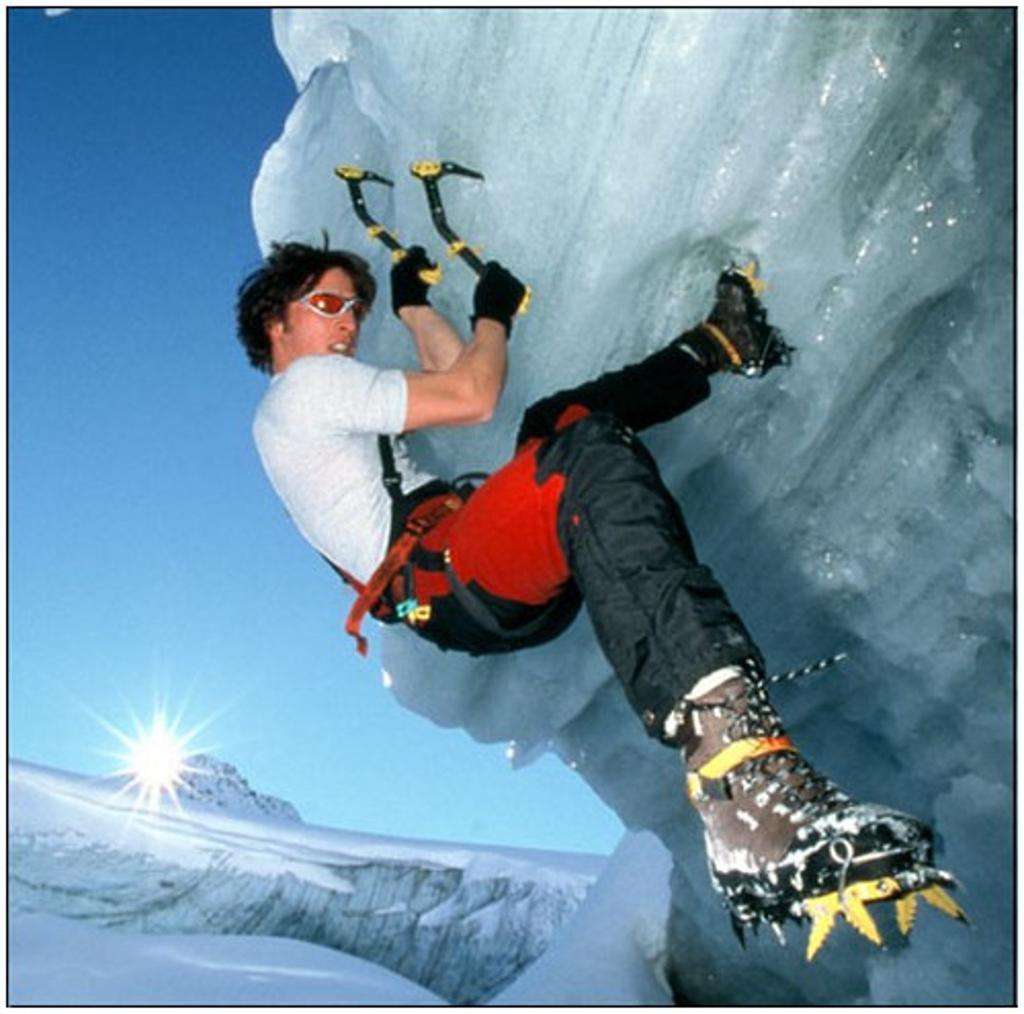face: (285, 265, 361, 367)
